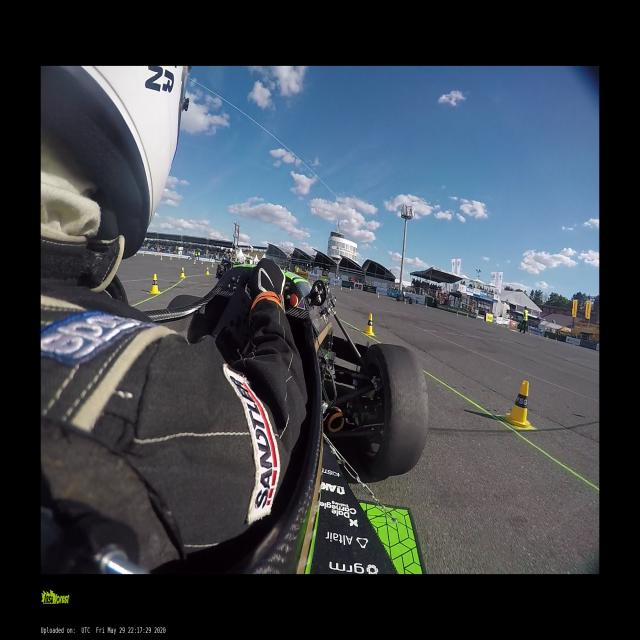yellow_cone: (506, 380, 532, 428), (363, 314, 375, 336), (148, 274, 160, 294), (180, 267, 185, 277), (205, 266, 210, 275), (377, 293, 380, 298), (340, 285, 342, 290)
